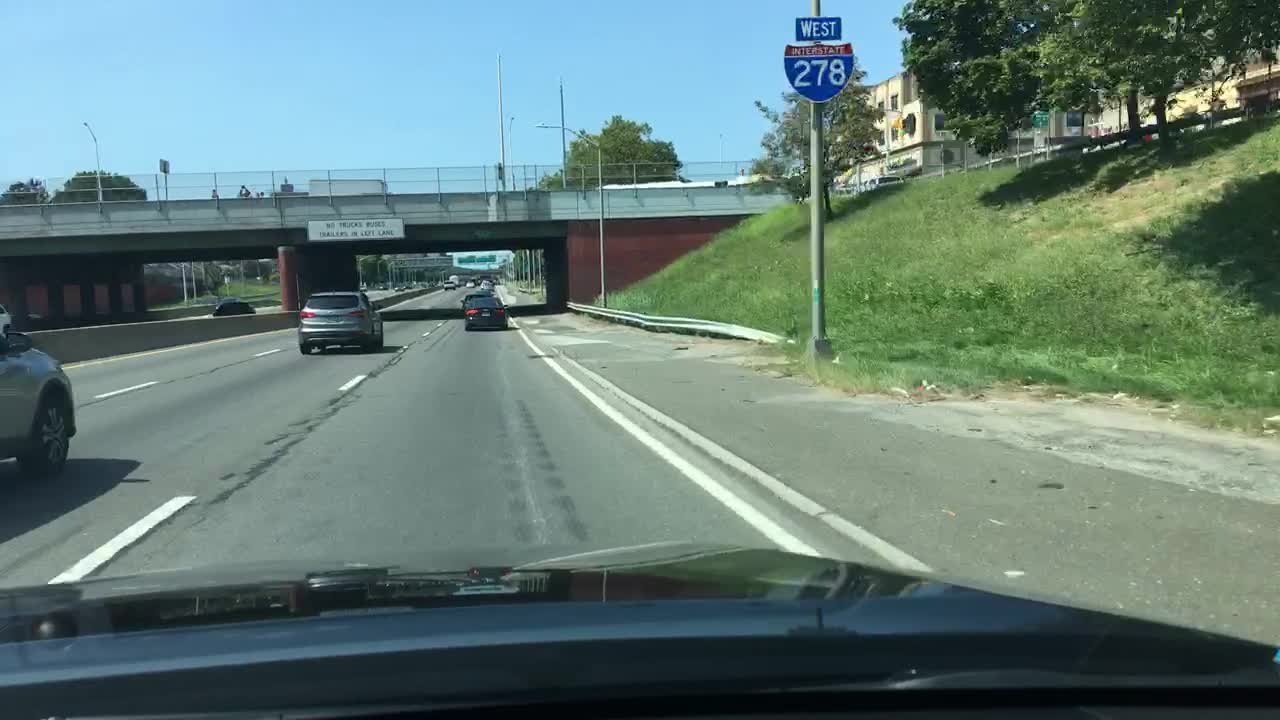car: (0, 307, 76, 477), (297, 290, 381, 354), (464, 295, 509, 334), (211, 293, 258, 317), (460, 292, 491, 310), (860, 175, 901, 187), (477, 278, 492, 290), (442, 278, 455, 290), (465, 276, 475, 286)
traffic sign: (784, 44, 852, 104), (307, 219, 403, 243), (795, 15, 842, 42), (157, 155, 172, 174), (454, 253, 472, 266), (474, 253, 496, 263)
truck: (307, 179, 388, 197)
